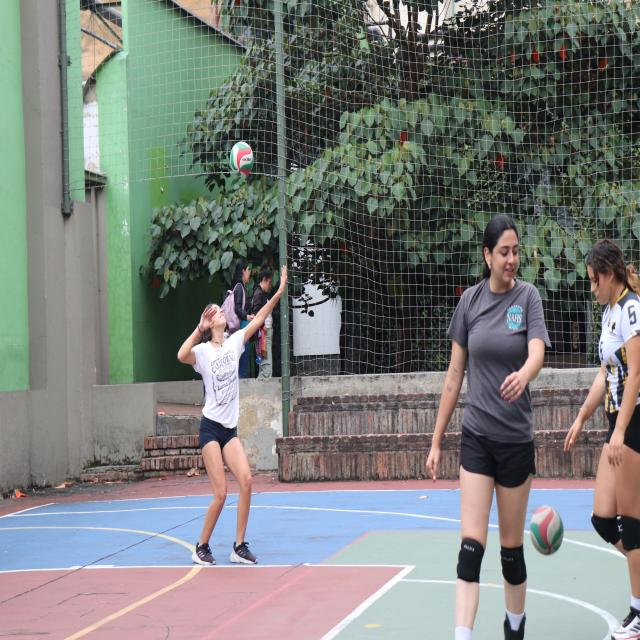volleyball: (529, 505, 564, 555), (230, 142, 254, 178)
